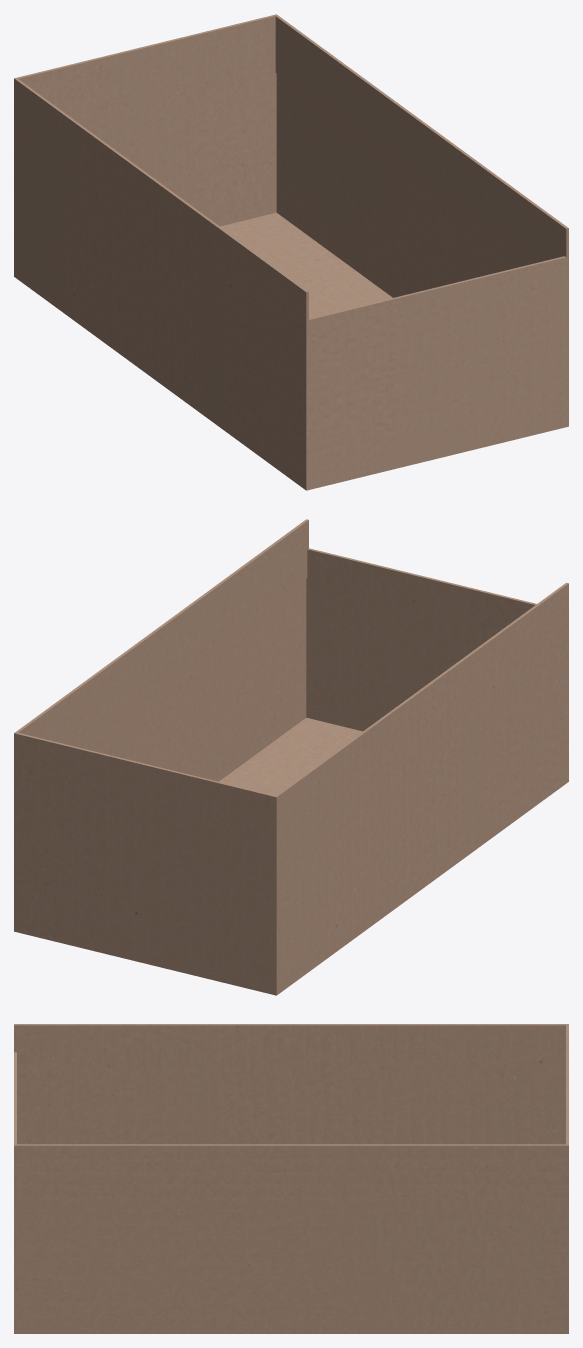
The model's file is Box_PlasticBig.fbx.
3 views of the same model, one above another, from view 1: azimuth 30°, elevation 25°; view 2: azimuth 150°, elevation 25°; view 3: azimuth 270°, elevation 25° (orthographic). The views are drawn at different scales.
Parts seen in each view (by area): view 1: Box_PlaticBig; view 2: Box_PlaticBig; view 3: Box_PlaticBig.
Boxes of the visible parts, x1=… form: Box_PlaticBig: x1=14, y1=14, x2=568, y2=490; Box_PlaticBig: x1=14, y1=519, x2=568, y2=995; Box_PlaticBig: x1=14, y1=1024, x2=568, y2=1333.
Bounding box in the file's own units: 19.4 × 14 × 37.4.
